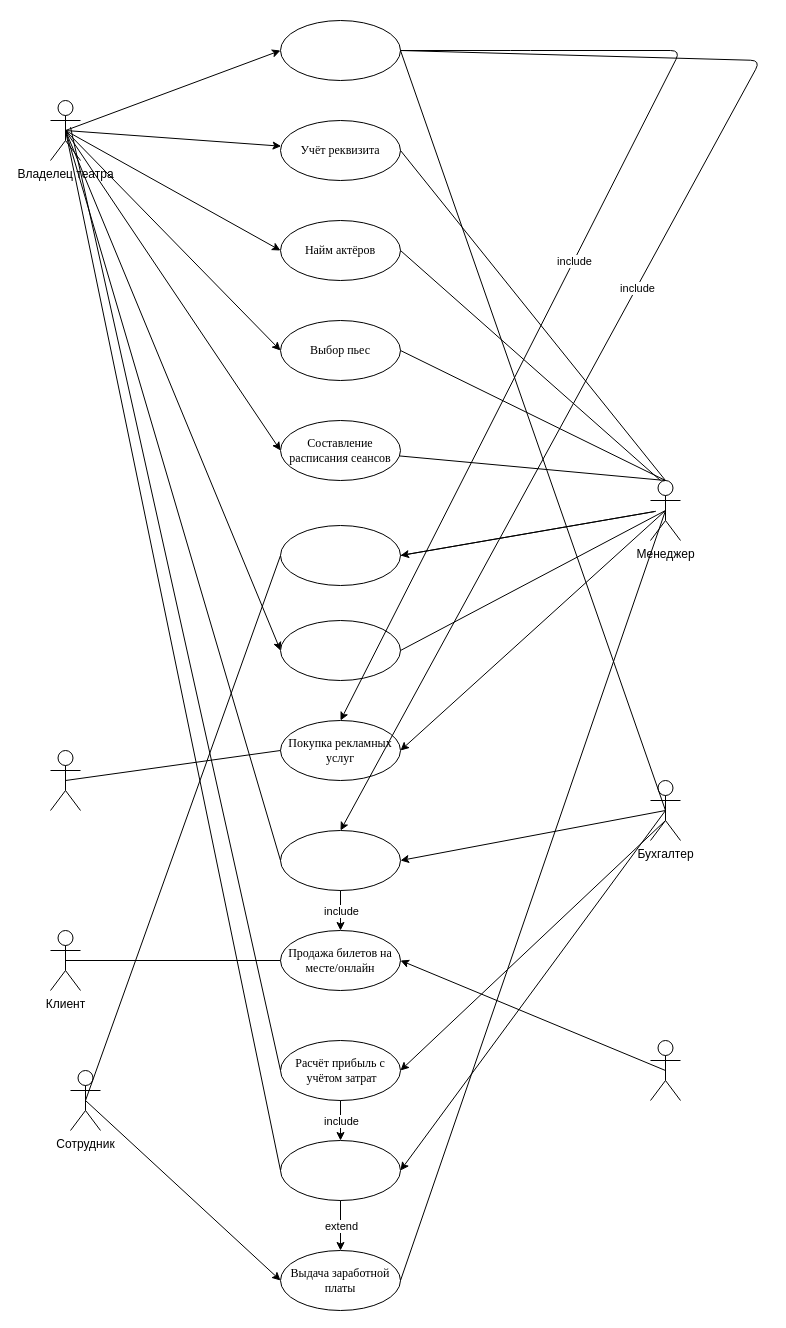
The diagram is 786 pixels wide and 1328 high, and some of its shapes have lost their labels. Each missing label, with the centre of its shape:
"Кассир" belongs at point 665,1070.
"Подготовка помещения к проведению спектаклей" belongs at point 340,650.
"Проведение репетиций" belongs at point 340,555.
"Расчёт заработной платы" belongs at point 340,1170.
"Расчёт цены билета" belongs at point 340,860.
"Рекламодатель" belongs at point 65,780.
"Составление бюджета на период проведения спектаклей" belongs at point 340,50.
